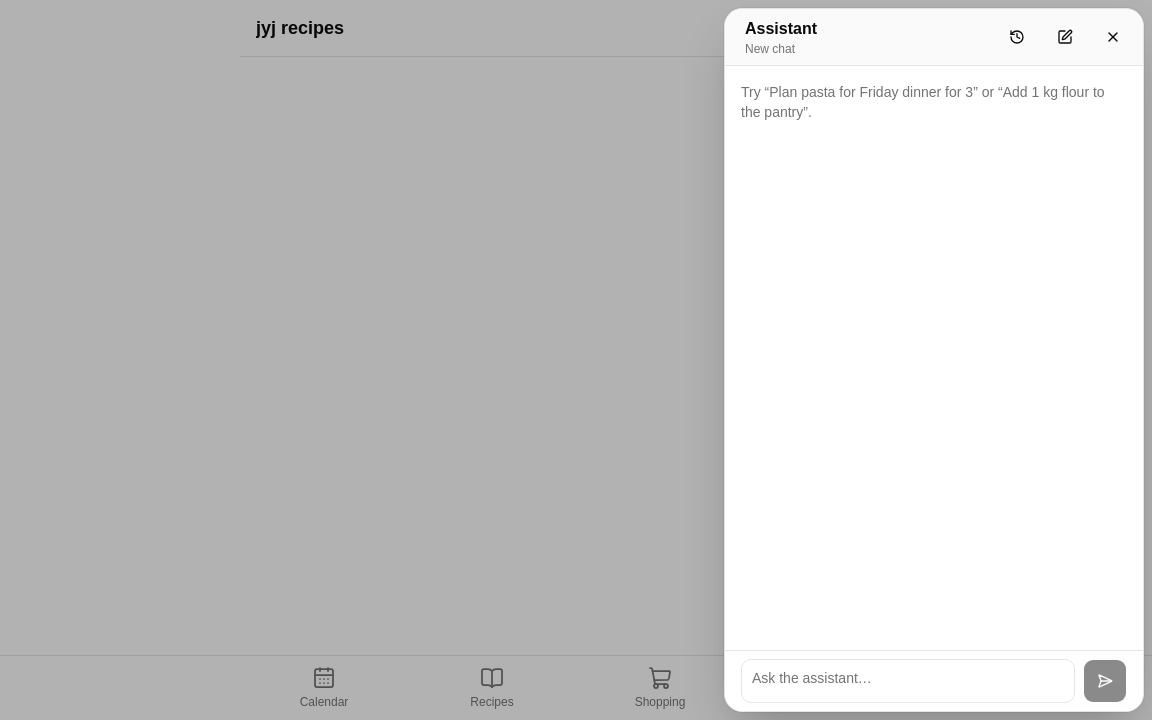
Test: chat › switches conversations from the recent list
Click the button named "Chat history" at (1017,37), box [995,15,1039,59]
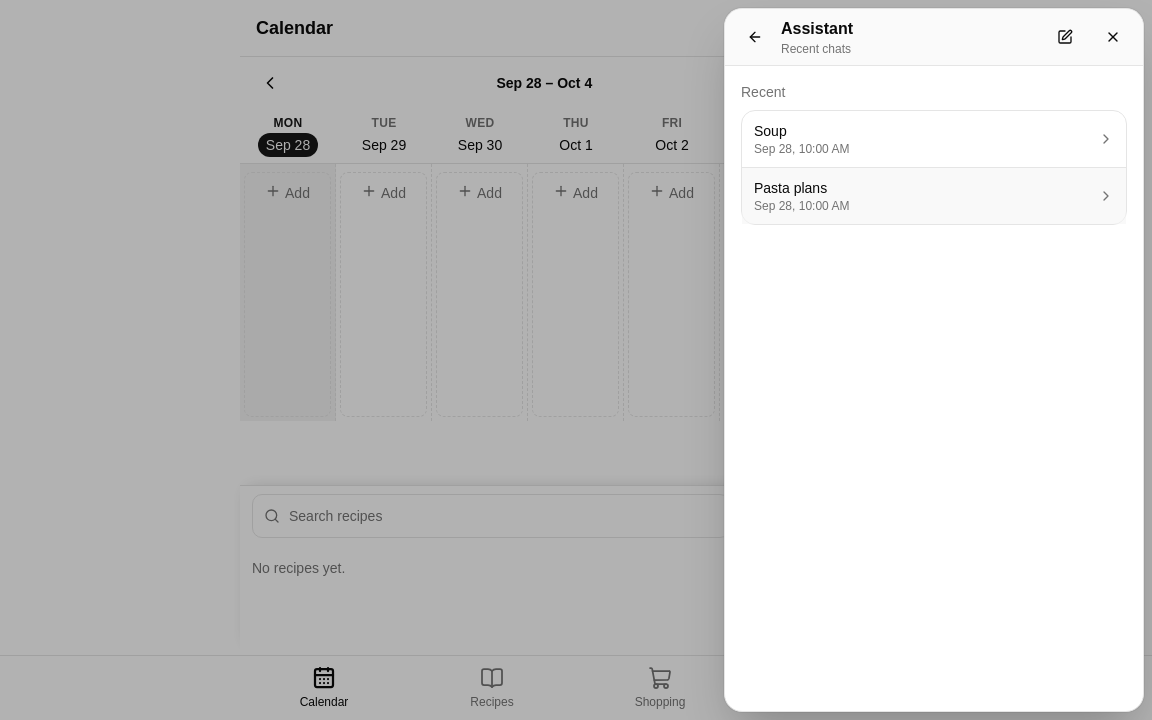
Click the button "Soup Sep 28, 10:00 AM" at (770,131), box [742,111,1126,167]
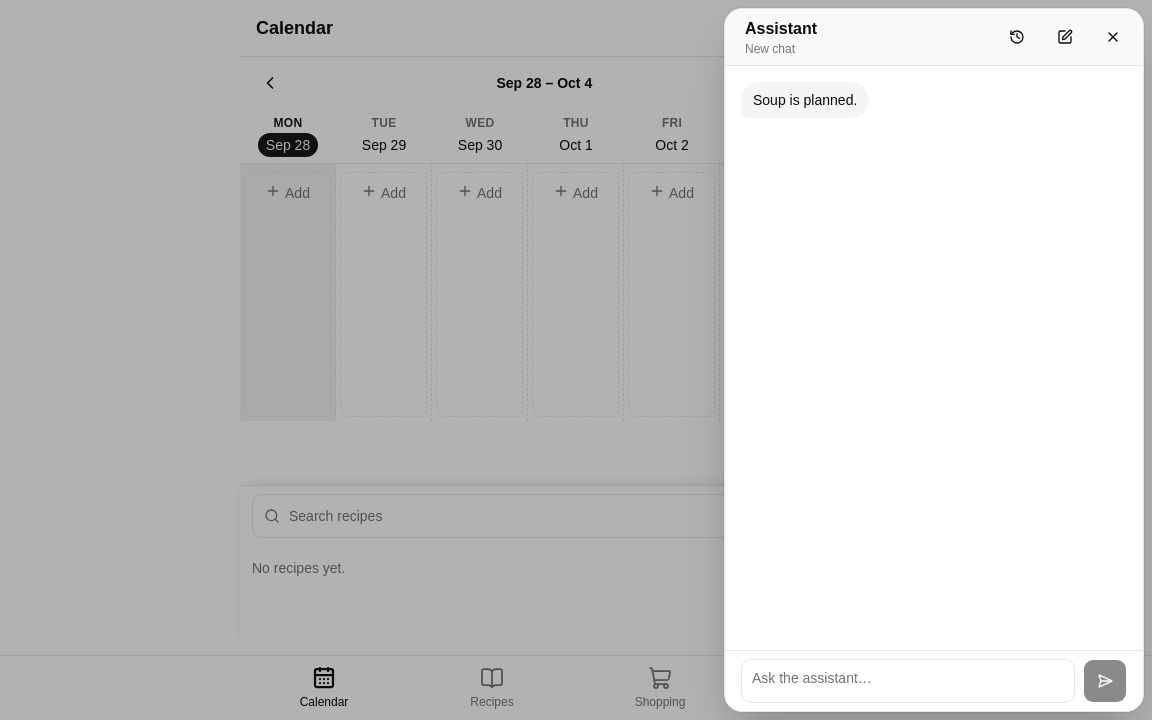
expect the text "Soup is planned." is shown: met, box [741,82,869,118]
